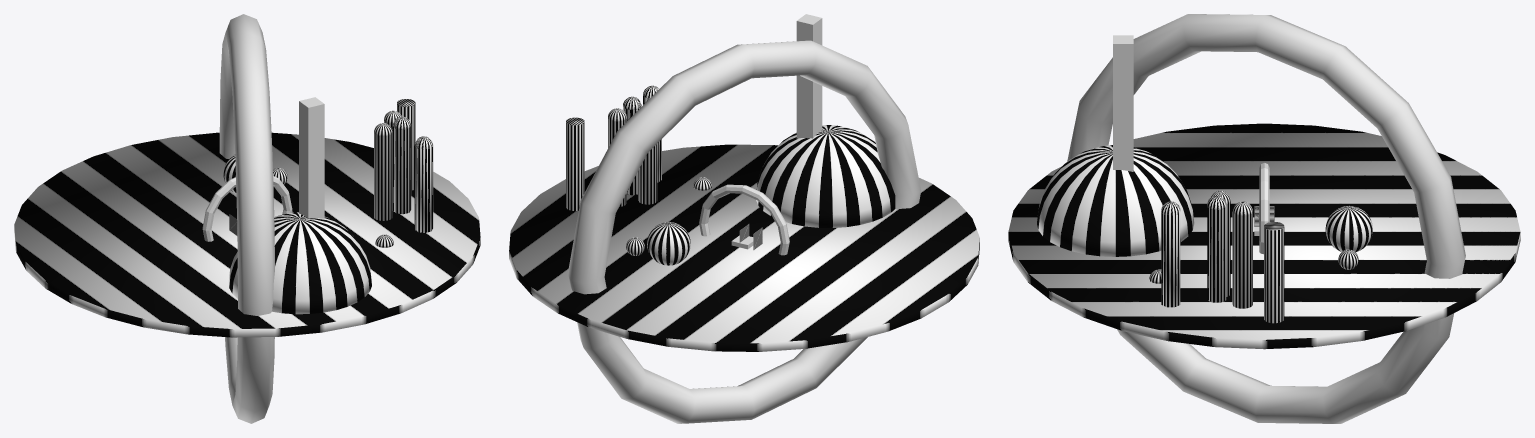
File: backdrop.fbx
3 renders of one model, left to right at view 1: azimuth 30°, elevation 25°; view 2: azimuth 150°, elevation 25°; view 3: azimuth 270°, elevation 25°, orthographic. The views are drawn at different scales.
Visible parts, largest first — view 1: Cylinder, Torus.001, Sphere.003, Cube.001, Sphere.006, roundedsphere, Sphere.002, Torus, Cylinder.002; view 2: Cylinder, Torus.001, Sphere.003, Cube.001, Cylinder.002, Sphere.004, Torus, Sphere.002, Sphere.005, Sphere.006; view 3: Cylinder, Torus.001, Sphere.003, Cube.001, Sphere.005, Cylinder.002, Sphere.006, roundedsphere, Sphere.004, Torus, Sphere.002.
Boxes of the visible parts, x1,y1,x2,y2 form: Cylinder: (14, 132, 480, 337); Torus.001: (219, 14, 274, 423); Sphere.003: (228, 212, 371, 314); Cube.001: (299, 97, 324, 218); Sphere.006: (392, 116, 411, 214); roundedsphere: (414, 136, 433, 232); Sphere.002: (374, 123, 392, 220); Torus: (202, 176, 292, 241); Cylinder.002: (397, 99, 415, 190); Cylinder: (509, 144, 979, 351); Torus.001: (567, 40, 921, 423); Sphere.003: (756, 125, 895, 227); Cube.001: (796, 14, 822, 138); Cylinder.002: (566, 117, 584, 210); Sphere.004: (647, 222, 690, 265); Torus: (699, 184, 789, 255); Sphere.002: (638, 144, 657, 204); Sphere.005: (608, 108, 626, 206); Sphere.006: (623, 96, 641, 195); Cylinder: (1008, 123, 1520, 349); Torus.001: (1067, 14, 1465, 423); Sphere.003: (1037, 145, 1194, 256); Cube.001: (1113, 35, 1133, 171); Sphere.005: (1232, 201, 1252, 308); Cylinder.002: (1264, 222, 1284, 323); Sphere.006: (1207, 196, 1226, 302); roundedsphere: (1161, 201, 1180, 307); Sphere.004: (1325, 205, 1372, 252); Torus: (1259, 163, 1269, 254); Sphere.002: (1211, 190, 1230, 296).
Size of the model in its own units: 5000 by 4394 by 5000.
